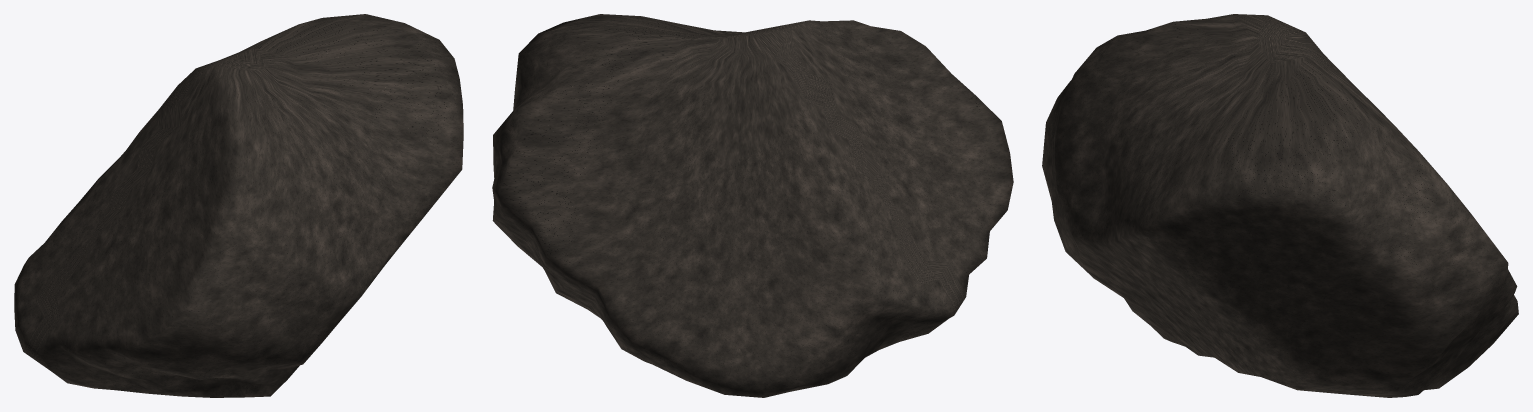
File: obstacle_big_1.dae
3 views of the same model, side by side, from view 1: azimuth 30°, elevation 25°; view 2: azimuth 150°, elevation 25°; view 3: azimuth 270°, elevation 25° (orthographic). The views are drawn at different scales.
Visible parts, largest first — view 1: obstacle_big_1; view 2: obstacle_big_1; view 3: obstacle_big_1.
Boxes of the visible parts, x1,y1,x2,y2 form: obstacle_big_1: (14, 14, 463, 397); obstacle_big_1: (492, 14, 1013, 397); obstacle_big_1: (1042, 14, 1518, 397).
Bounding box in the file's own units: 1 × 0.8965 × 0.6686.
1 material, 1 textured.
